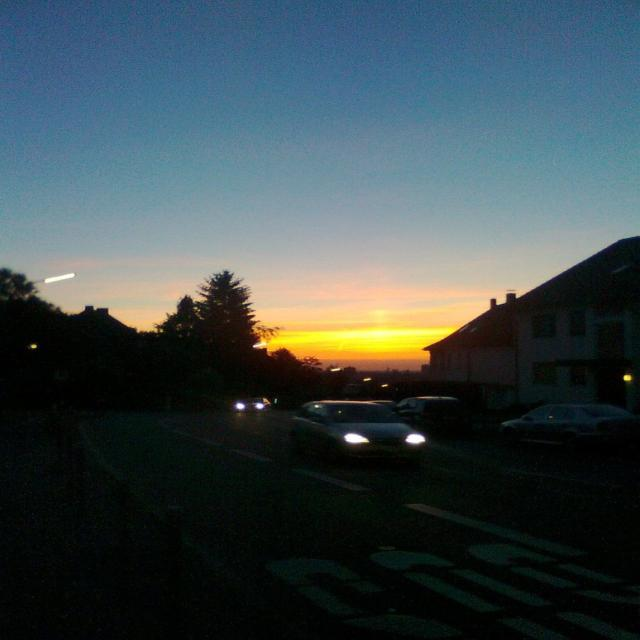Car: (284, 400, 426, 470), (491, 402, 640, 453)
